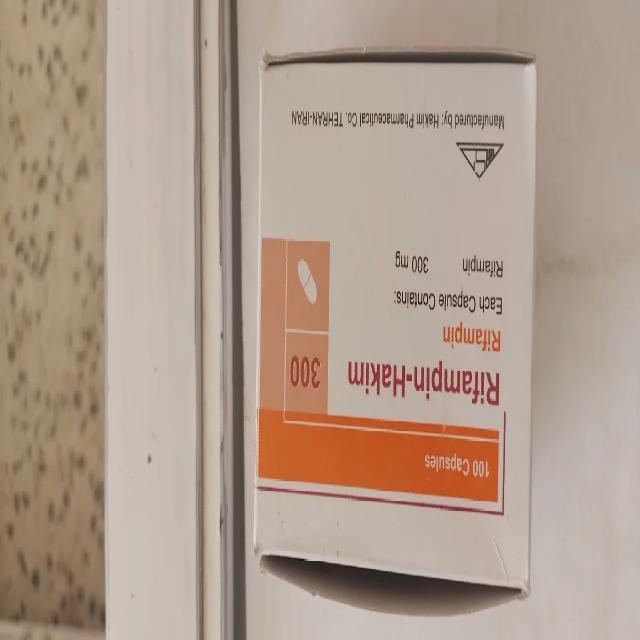drug-name: (420, 451, 493, 482)
